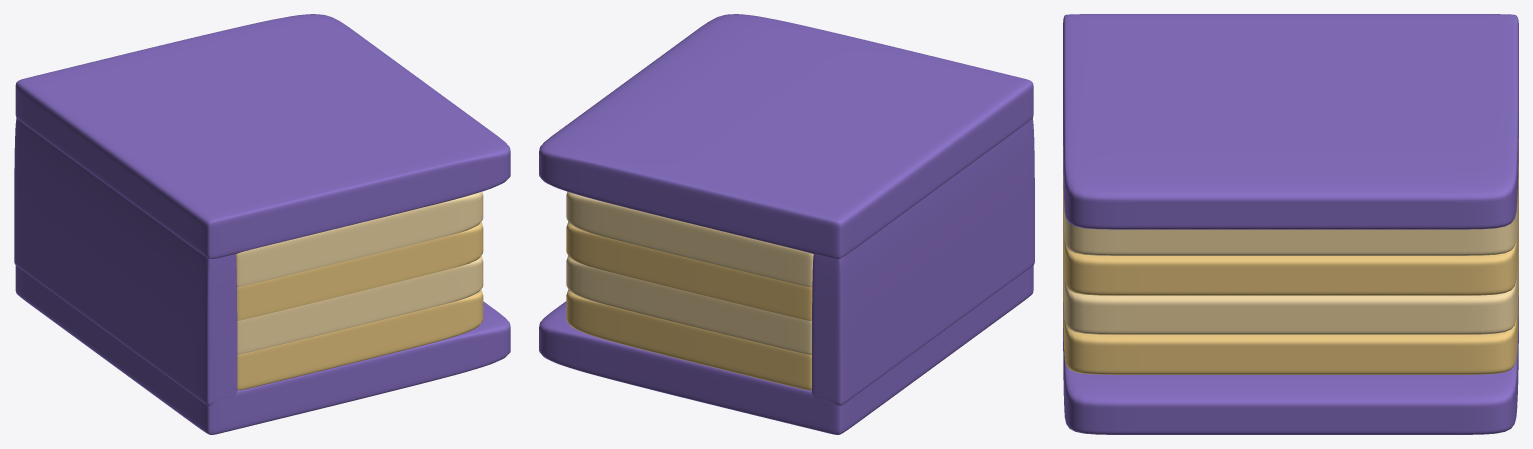
File: папка1.fbx
3 renders of one model, left to right at view 1: azimuth 30°, elevation 25°; view 2: azimuth 150°, elevation 25°; view 3: azimuth 270°, elevation 25°, orthographic. The views are drawn at different scales.
Parts seen in each view (by area): view 1: Cube_2; view 2: Cube_2; view 3: Cube_2.
Part boxes in pixels (x1=…): Cube_2: x1=14, y1=14, x2=510, y2=434; Cube_2: x1=539, y1=14, x2=1034, y2=434; Cube_2: x1=1063, y1=14, x2=1518, y2=434.
Bounding box in the file's own units: 141 × 92.42 × 151.
